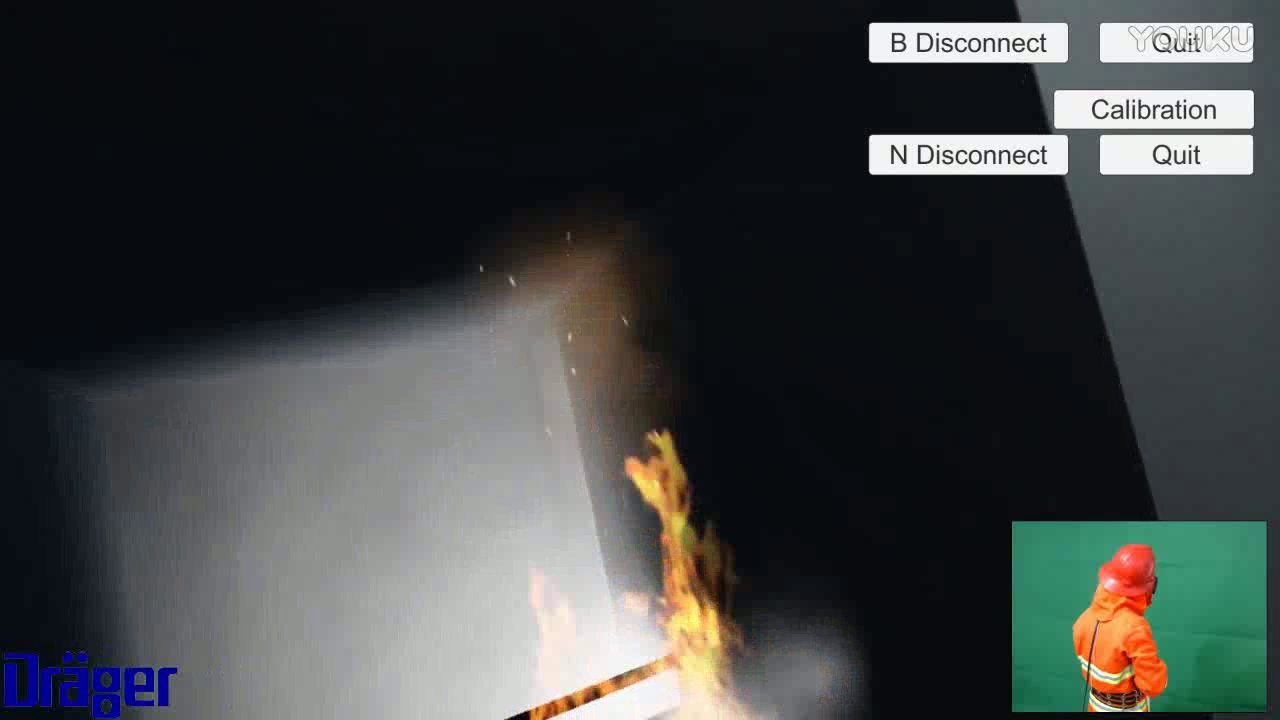fire: (611, 422, 753, 715)
